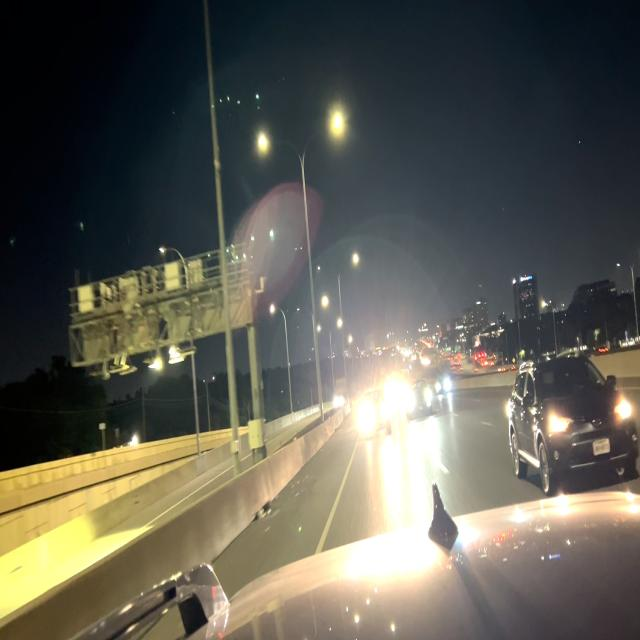back-of-sign: (70, 247, 254, 366)
